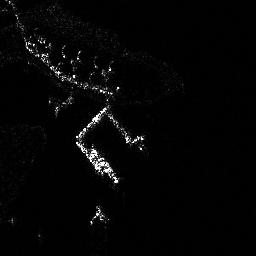ship: (89, 145, 119, 184)
